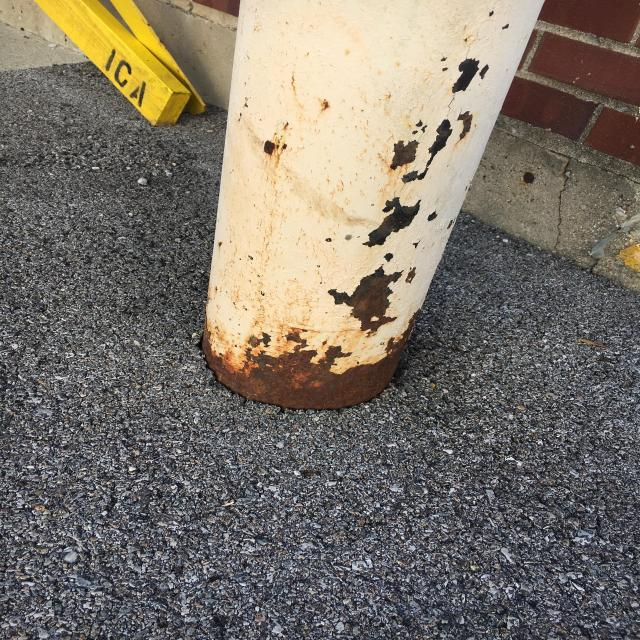non-corrosion: (205, 0, 527, 410)
